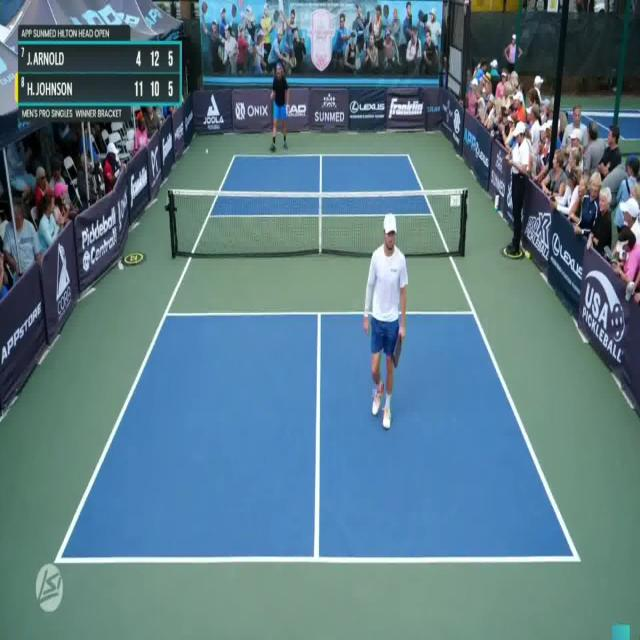ball: (206, 148, 208, 152)
